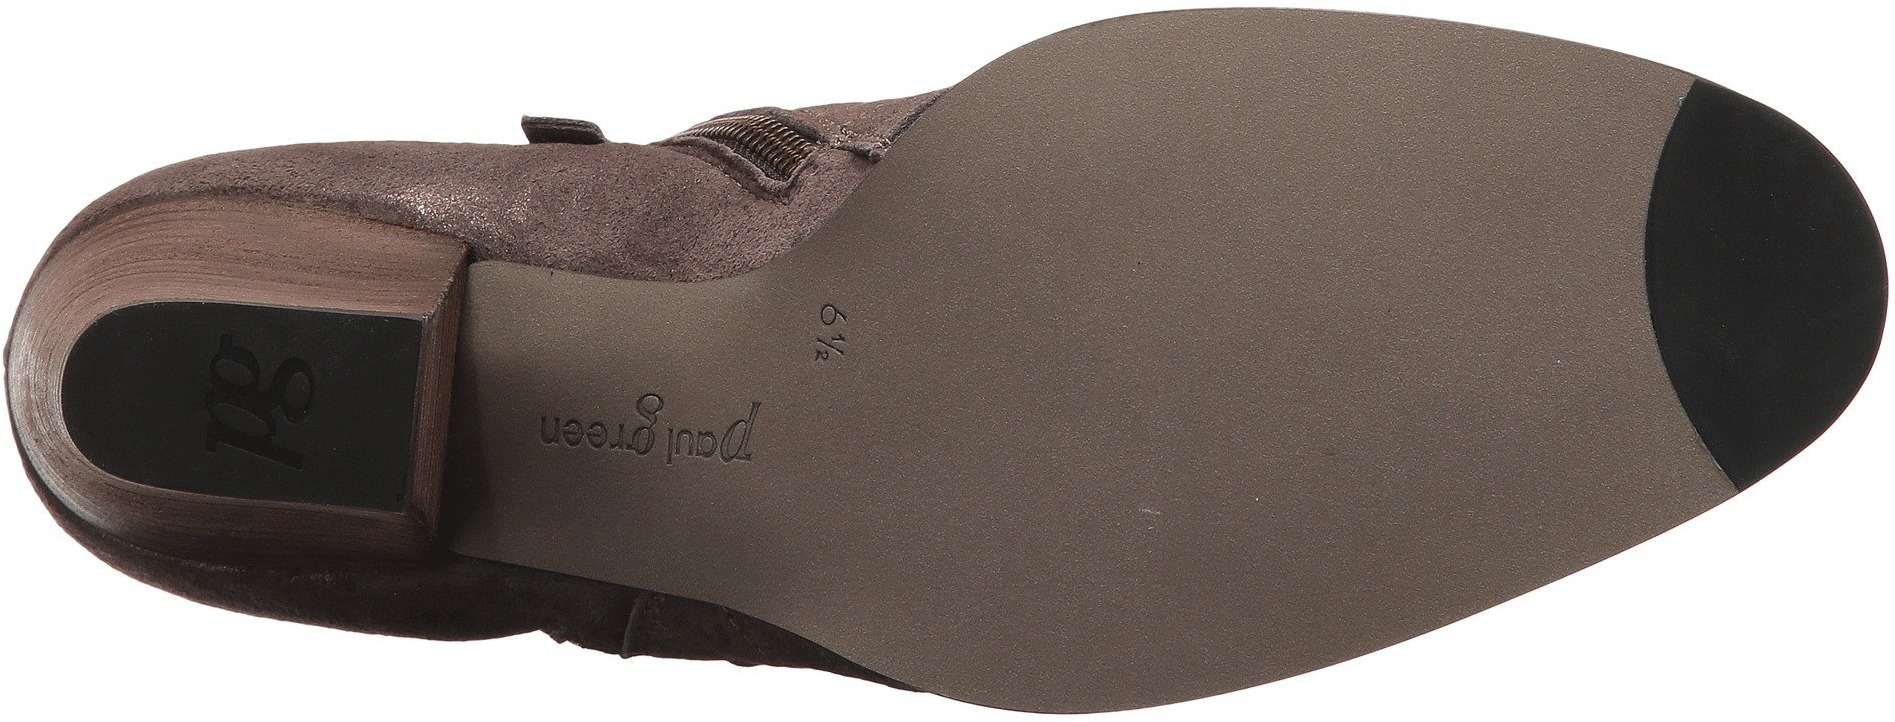other: (1165, 298, 1442, 585), (873, 190, 1155, 470), (1178, 21, 1438, 288), (1449, 70, 1696, 329), (874, 474, 1111, 691), (1454, 339, 1651, 538), (1699, 185, 1872, 347), (1028, 44, 1173, 186), (87, 343, 190, 451)
text: (193, 325, 334, 466)
